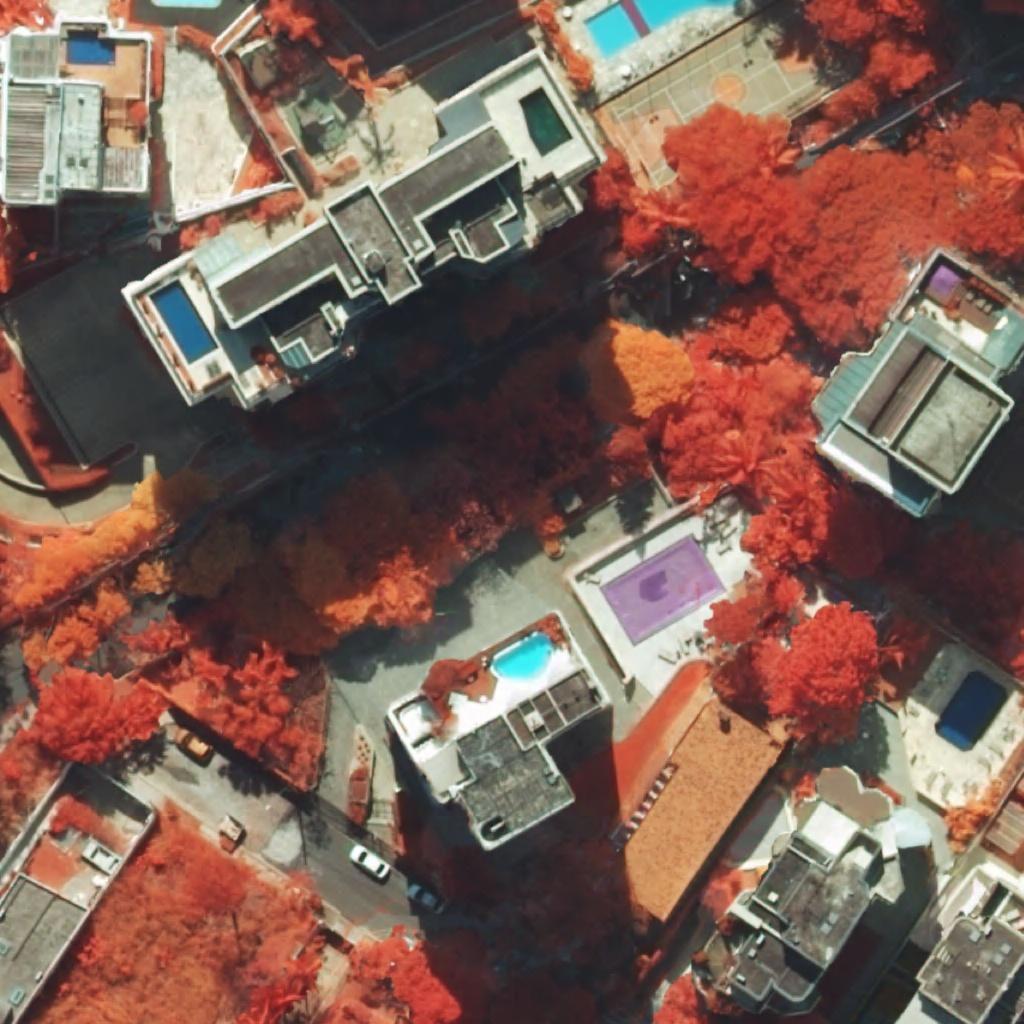pool: (584, 0, 740, 59), (934, 670, 1009, 752), (149, 279, 219, 365), (518, 86, 574, 158), (493, 635, 552, 680), (66, 30, 115, 65)
